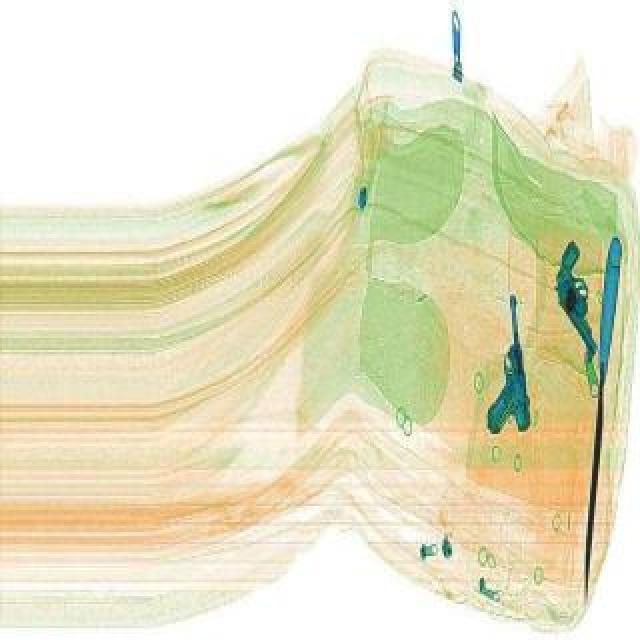gun: (532, 236, 636, 354), (474, 288, 536, 432)
knife: (576, 236, 628, 602)
